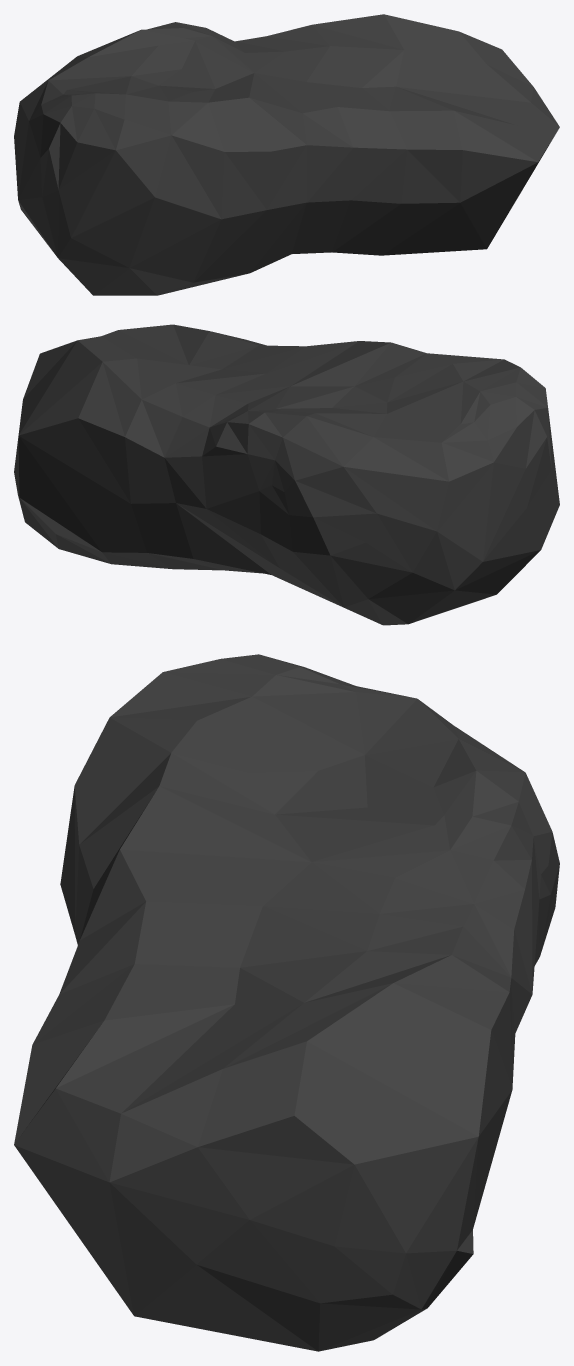
Rendered from RFL_humerus3.glb.
The picture shows the model from 3 angles, top to bottom: view 1: azimuth 30°, elevation 25°; view 2: azimuth 150°, elevation 25°; view 3: azimuth 270°, elevation 25°; orthographic projection. The views are drawn at different scales.
Parts seen in each view (by area): view 1: RFL_humerus3; view 2: RFL_humerus3; view 3: RFL_humerus3.
Part boxes in pixels (left/top/right/bottom): RFL_humerus3: left=14, top=14, right=559, bottom=295; RFL_humerus3: left=14, top=324, right=559, bottom=625; RFL_humerus3: left=14, top=654, right=559, bottom=1351.
Size of the model in its own units: 17.17 by 7.81 by 10.2.
1 material, 1 textured.
